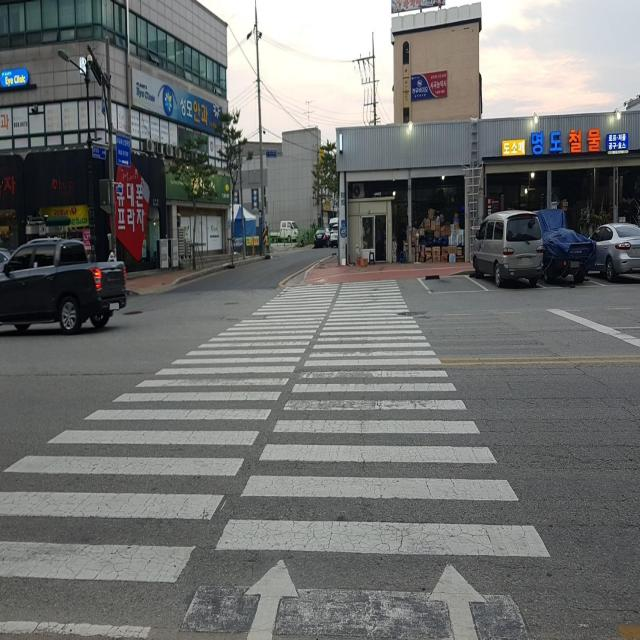횡단보도: (0, 278, 551, 640)
